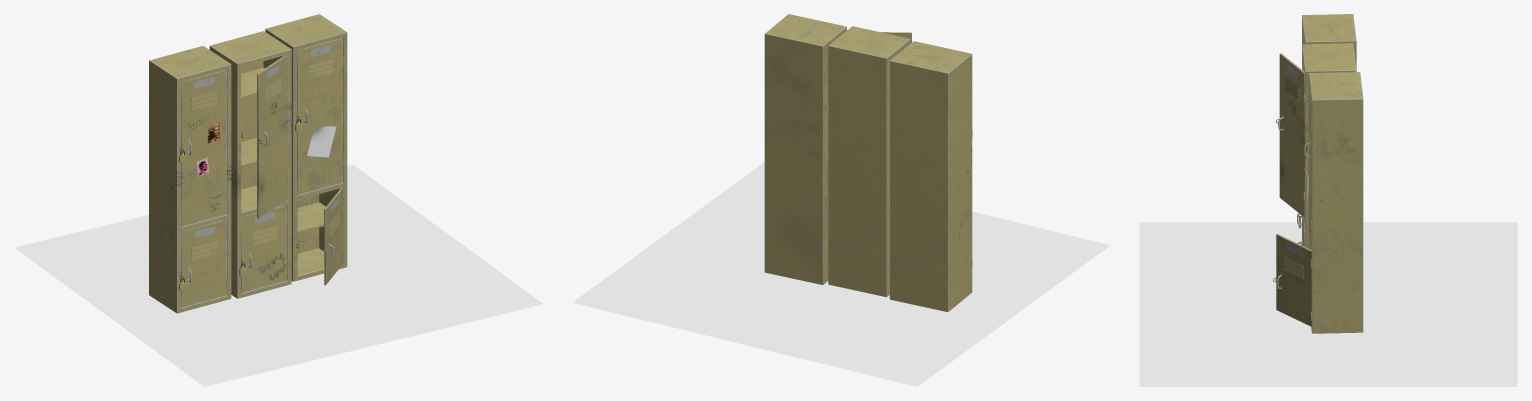
Rendered from school_lockers.glb.
3 renders of one model, left to right at view 1: azimuth 30°, elevation 25°; view 2: azimuth 150°, elevation 25°; view 3: azimuth 270°, elevation 25°, orthographic. The views are drawn at different scales.
Visible parts, largest first — view 1: Floor_0, Body_3, Body.001_17, Body.002_28, Door_top_12, Door_top.002_36, Door_top.001_24, Door_bottom.001_21, Door_bottom_7, Door_bottom.002_32, Poster.001_35; view 2: Floor_0, Body_3, Body.002_28, Body.001_17; view 3: Floor_0, Body.002_28, Door_top.001_24, Door_bottom.002_32, Body.001_17, Body_3, Door_top.002_36.
Part boxes in pixels (bbox=[...]): Floor_0: bbox=[14, 165, 543, 386]; Body_3: bbox=[149, 46, 231, 313]; Body.001_17: bbox=[209, 31, 291, 298]; Body.002_28: bbox=[265, 14, 347, 281]; Door_top_12: bbox=[181, 69, 226, 226]; Door_top.002_36: bbox=[297, 38, 342, 195]; Door_top.001_24: bbox=[257, 55, 287, 218]; Door_bottom.001_21: bbox=[241, 205, 287, 292]; Door_bottom_7: bbox=[181, 219, 226, 307]; Door_bottom.002_32: bbox=[324, 187, 343, 285]; Poster.001_35: bbox=[307, 126, 336, 157]; Floor_0: bbox=[572, 162, 1110, 386]; Body_3: bbox=[889, 41, 972, 312]; Body.002_28: bbox=[764, 14, 846, 284]; Body.001_17: bbox=[828, 26, 910, 297]; Floor_0: bbox=[1139, 222, 1517, 386]; Body.002_28: bbox=[1308, 72, 1363, 333]; Door_top.001_24: bbox=[1279, 53, 1304, 217]; Door_bottom.002_32: bbox=[1276, 234, 1311, 326]; Body.001_17: bbox=[1302, 43, 1356, 248]; Body_3: bbox=[1302, 14, 1356, 69]; Door_top.002_36: bbox=[1309, 80, 1311, 244].
Size of the model in its own units: 3.02 by 2 by 2.93.
Materials: 7 (5 with a texture image).
